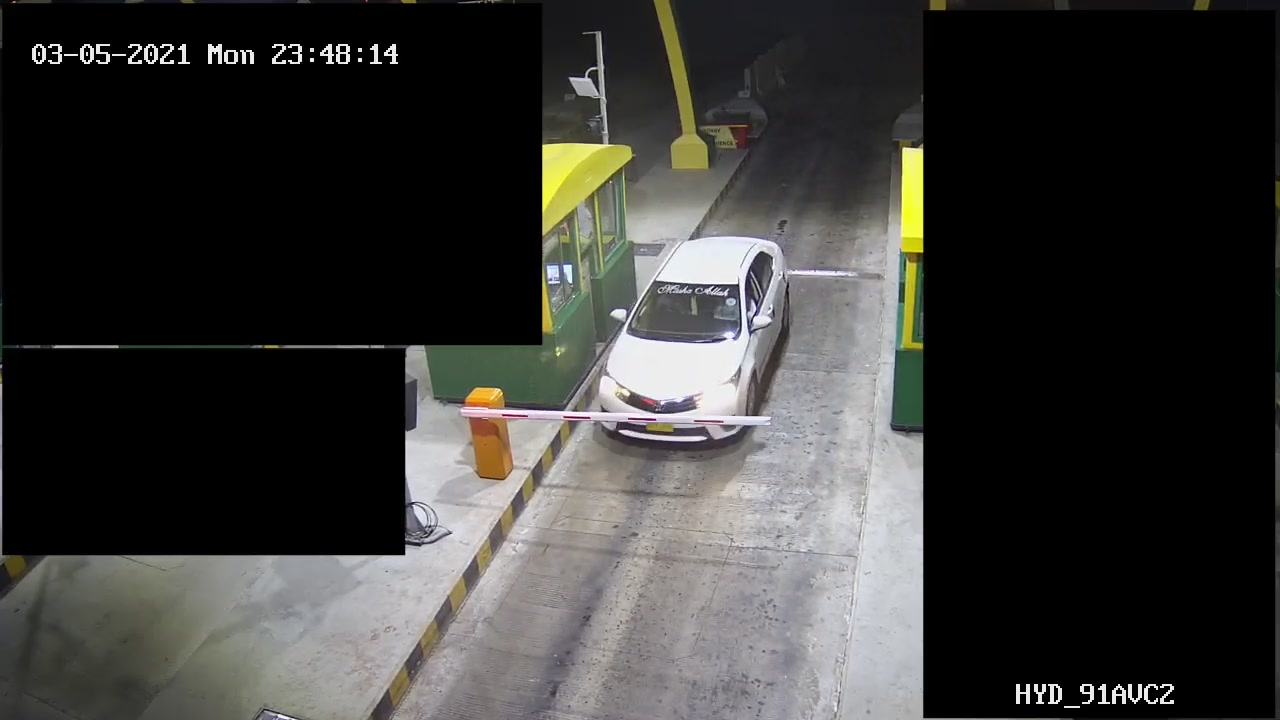F1: (593, 227, 797, 462)
